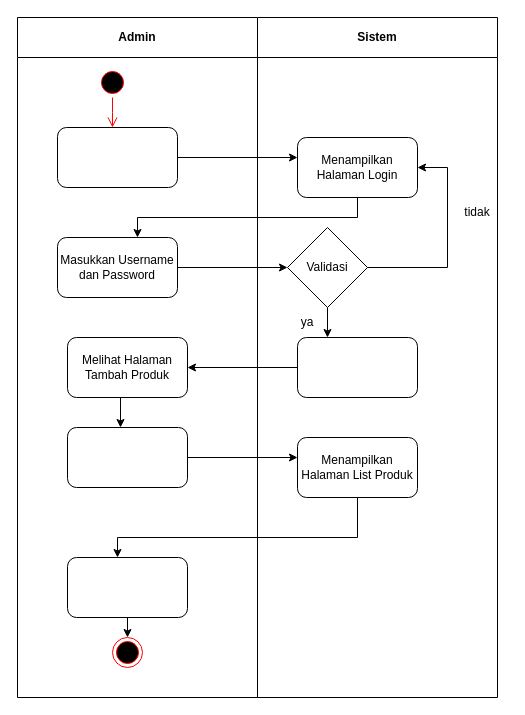
Some shapes in this 525 by 715 pixel diagram are drawn without their labels. Each missing label, with the centre of its shape:
Melihat Halaman List Produk: (x=127, y=587)
Membuka Website: (x=117, y=157)
Memilih Menu List Produk: (x=127, y=457)
Menampilkan Halaman Tambah Produk: (x=357, y=367)
